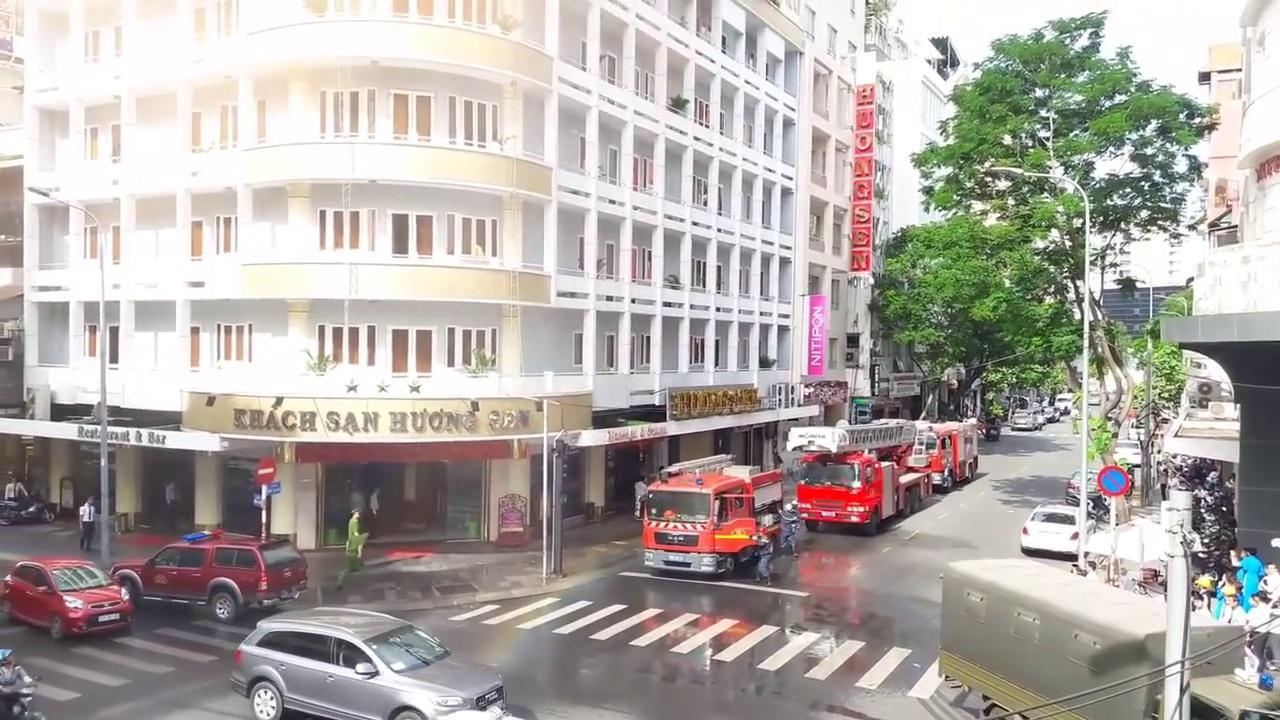xe cuu hoa: (640, 451, 786, 573), (785, 428, 926, 531), (902, 417, 978, 489)
xe hoi: (232, 609, 511, 720), (126, 531, 302, 620), (0, 558, 143, 637), (1019, 501, 1094, 555), (1062, 468, 1107, 511)
xe may: (0, 648, 46, 720)
xe tai: (938, 556, 1280, 720)
